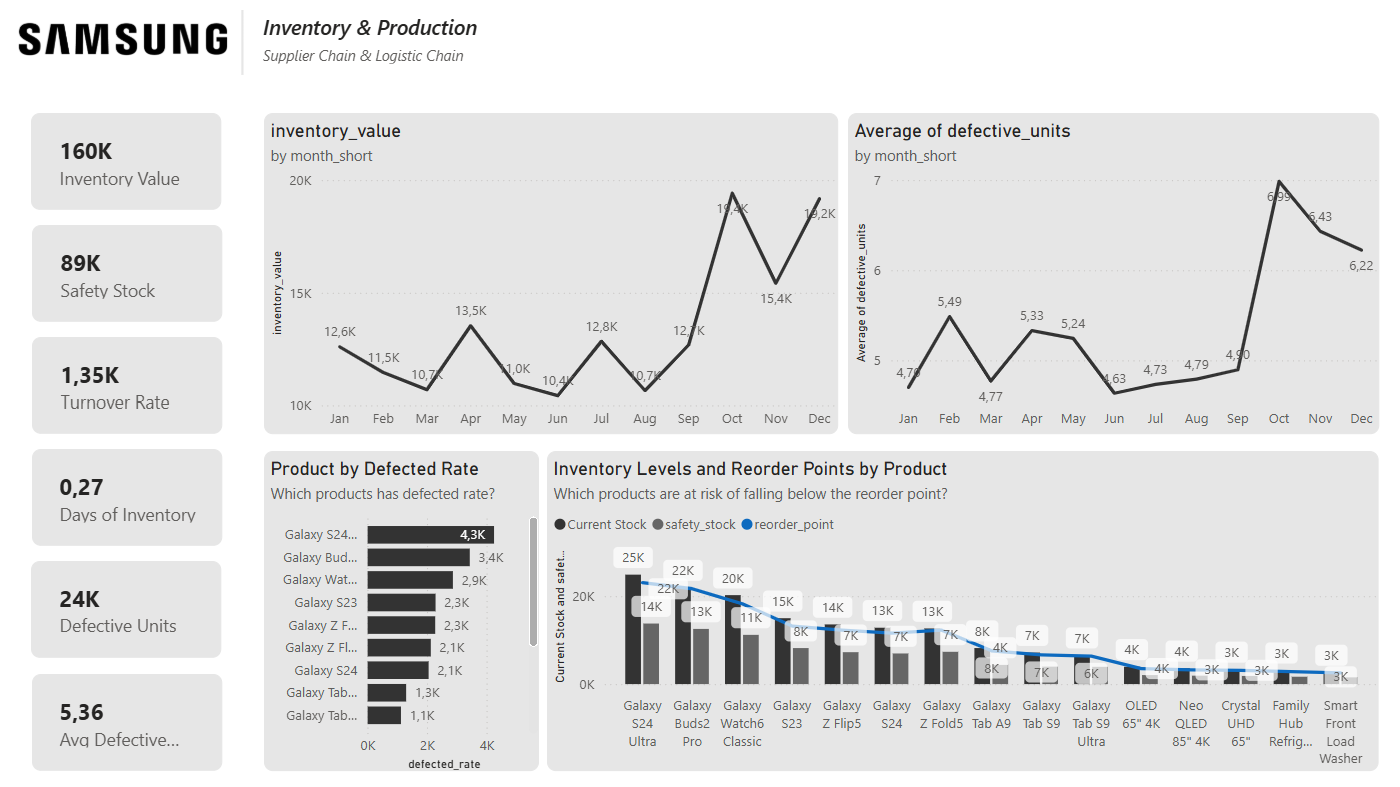

Layout of this report page (visuals, bound fields, positions):
{"tool":"powerbi","page":{"name":"Inventory","canvas":[1280,720],"ordinal":3},"visuals":[{"type":"shape","title":"Inventory & Production","box":[242.7,12.7,208.2,46.4],"z":0},{"type":"shape","box":[204.3,9.7,38.9,59.3],"z":1000},{"type":"image","box":[5.8,9.7,211.1,52.5],"z":2000},{"type":"cardVisual","fields":{"Data":["measures_table.ssafety_stock"]},"box":[32.8,205.7,173.1,88],"z":3000},{"type":"cardVisual","fields":{"Data":["measures_table.turnover_rate"]},"box":[32.8,307.6,173.1,88],"z":4000},{"type":"cardVisual","fields":{"Data":["measures_table.days_of_inventory"]},"box":[32.8,409.4,173.1,88],"z":5000},{"type":"cardVisual","fields":{"Data":["Sum(fact_production.defective_units)"]},"box":[31.7,511.3,173.1,88],"z":6000},{"type":"cardVisual","fields":{"Data":["Avg(fact_production.defective_units)"]},"box":[32.8,613.2,173.1,88],"z":7000},{"type":"cardVisual","fields":{"Data":["measures_table.inventory_value"]},"box":[31.7,103.8,173.1,88],"z":8000},{"type":"clusteredBarChart","title":"Product by  Defected Rate","fields":{"Y":["measures_table.defected_rate"],"Category":["dim_product.product_name"]},"box":[243.6,410.9,250,290.9],"z":9000},{"type":"lineClusteredColumnComboChart","title":"Inventory Levels and Reorder Points by Product","fields":{"Category":["dim_product.product_name"],"Y":["measures_table.inventory_value","measures_table.safety_stock"],"Y2":["measures_table.reorder_point"]},"box":[500.9,410.9,756.4,290.9],"z":10000},{"type":"lineChart","fields":{"Y":["Avg(fact_production.defective_units)"],"Category":["dim_date.month_short"]},"box":[774.5,103.6,482.7,291.8],"z":11000},{"type":"lineChart","fields":{"Y":["measures_table.inventory_value"],"Category":["dim_date.month_short"]},"box":[243.6,103.6,521.8,291.8],"z":12000}]}

Visuals, with their boxes in screenshot pixels (x1, y1, x2, y2), scaled from the page's 1280x720 canvas onto the 1400x787 screenshot:
"Inventory & Production" shape: rect(265, 14, 493, 65)
shape: rect(223, 11, 266, 75)
image: rect(6, 11, 237, 68)
cardVisual - measures_table.ssafety_stock: rect(36, 225, 225, 321)
cardVisual - measures_table.turnover_rate: rect(36, 336, 225, 432)
cardVisual - measures_table.days_of_inventory: rect(36, 447, 225, 544)
cardVisual - Sum(fact_production.defective_units): rect(35, 559, 224, 655)
cardVisual - Avg(fact_production.defective_units): rect(36, 670, 225, 766)
cardVisual - measures_table.inventory_value: rect(35, 113, 224, 210)
"Product by  Defected Rate" clusteredBarChart: rect(266, 449, 540, 767)
"Inventory Levels and Reorder Points by Product" lineClusteredColumnComboChart: rect(548, 449, 1375, 767)
lineChart - Avg(fact_production.defective_units) x dim_date.month_short: rect(847, 113, 1375, 432)
lineChart - measures_table.inventory_value x dim_date.month_short: rect(266, 113, 837, 432)
